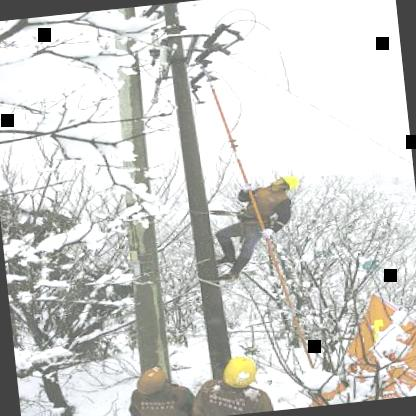helmet: (219, 350, 263, 394), (130, 362, 173, 393), (266, 174, 304, 195)
